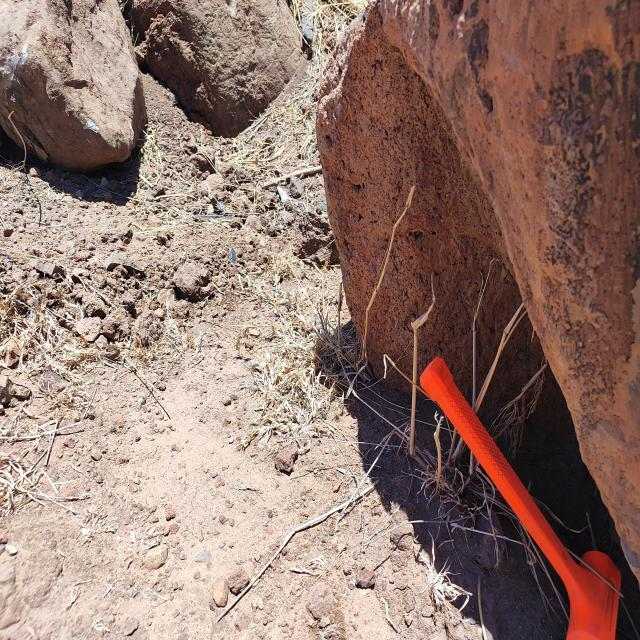Orange_hammer: (418, 354, 623, 638)
